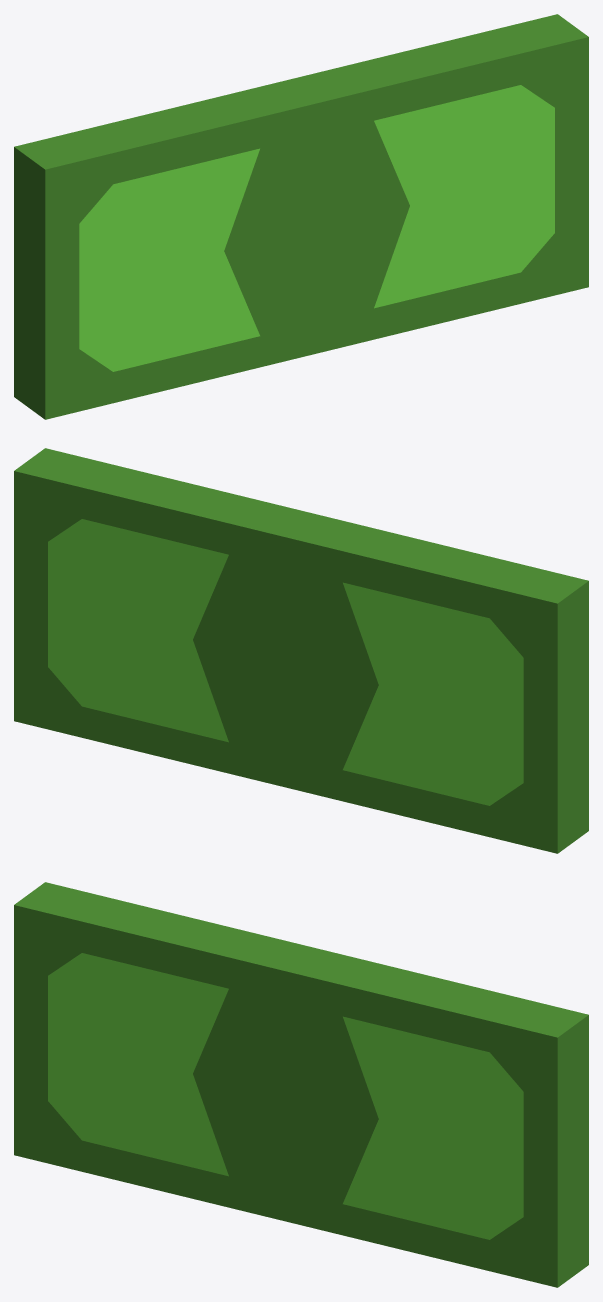
The model's file is Money.fbx.
3 views of the same model, one above another, from view 1: azimuth 30°, elevation 25°; view 2: azimuth 150°, elevation 25°; view 3: azimuth 330°, elevation 25° (orthographic).
Visible parts, largest first — view 1: Money; view 2: Money; view 3: Money.
Boxes of the visible parts, x1,y1,x2,y2 form: Money: [14, 14, 588, 419]; Money: [14, 448, 588, 853]; Money: [14, 882, 588, 1287].
Bounding box in the file's own units: 143 × 63.04 × 14.28.
